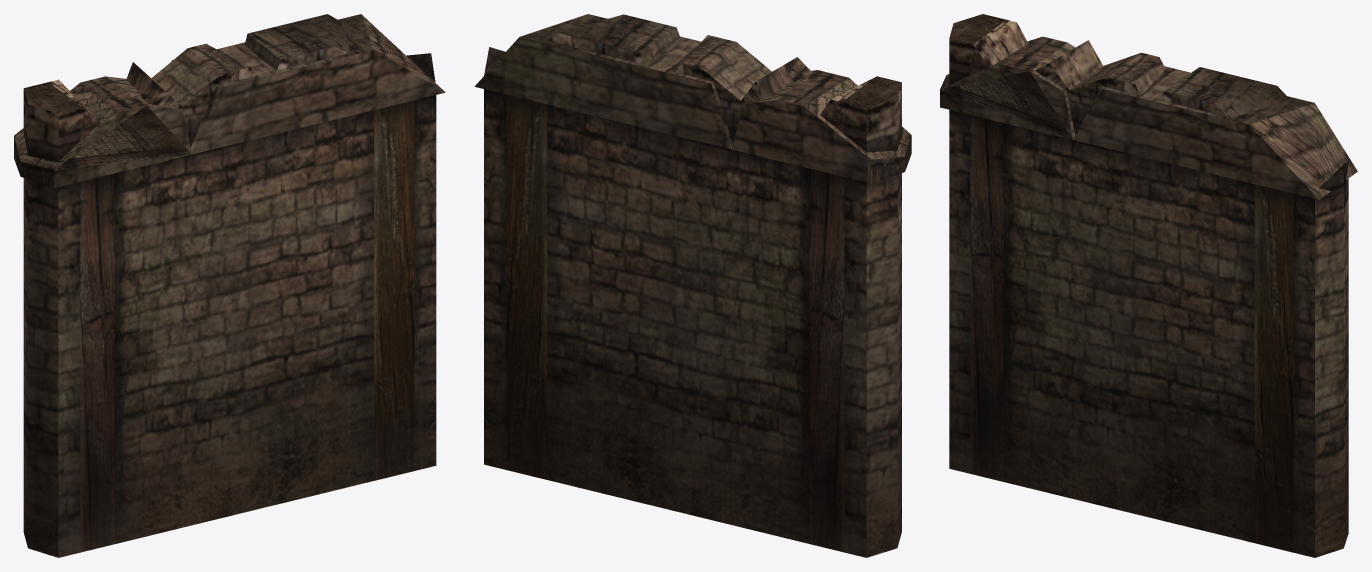
File: wall03.fbx
The picture shows the model from 3 angles, left to right: view 1: azimuth 30°, elevation 25°; view 2: azimuth 150°, elevation 25°; view 3: azimuth 330°, elevation 25°; orthographic projection. The views are drawn at different scales.
Visible parts, largest first — view 1: wall03; view 2: wall03; view 3: wall03.
Part boxes in pixels (x1,y1,x2,y2): wall03: (14, 14, 445, 557); wall03: (474, 14, 911, 557); wall03: (940, 14, 1357, 557).
Bounding box in the file's own units: 758 × 784 × 128.
